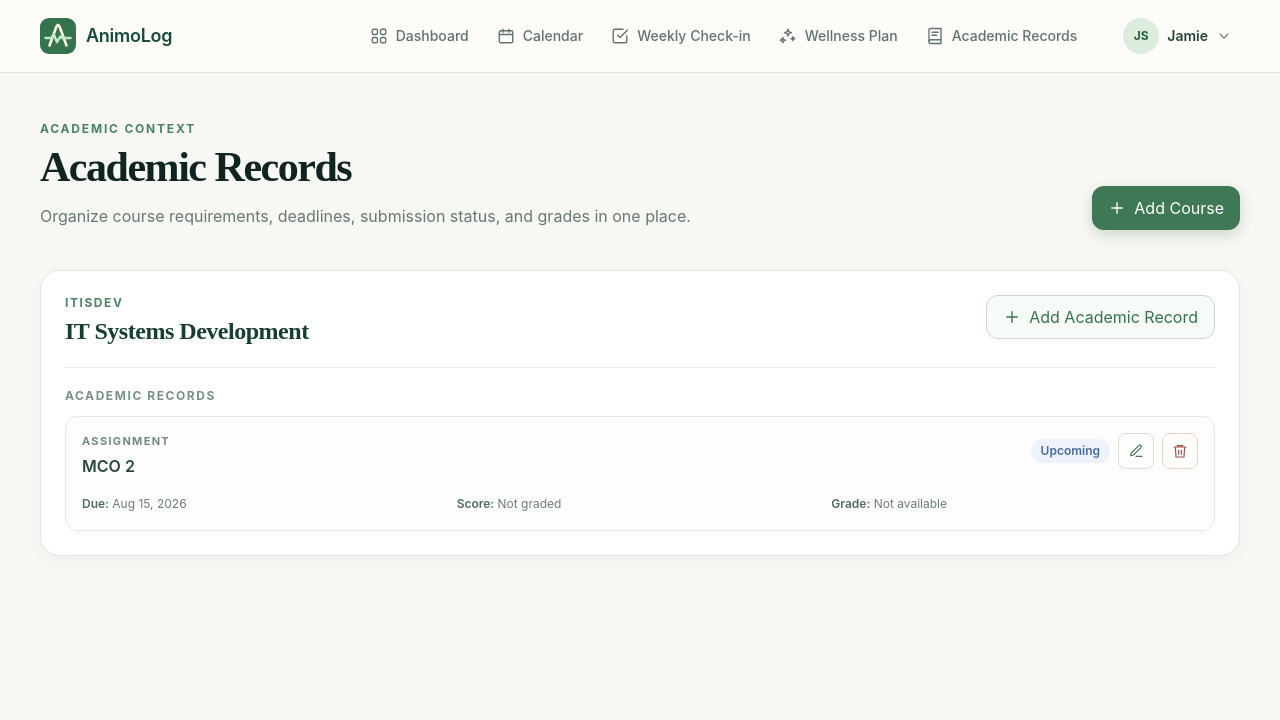
Scenario: Academic Records page › edits a manual record without changing its course
Click the button named "Edit MCO 2" at (1136, 451), box [1118, 433, 1154, 469]
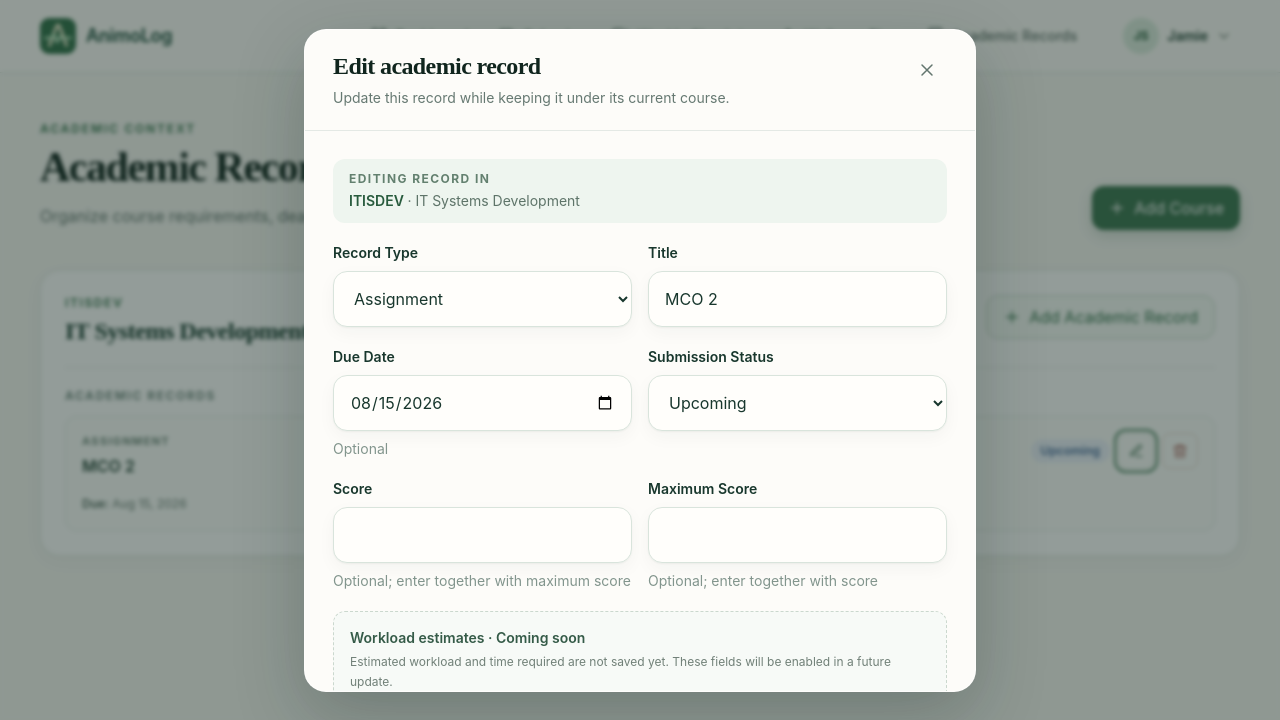
Now the heading "Edit academic record" is shown, box [333, 52, 540, 78]
Now the text "Editing record in" is shown, box [349, 170, 490, 186]
Now the date field labelled "Due Date" holds "2026-08-15", box [333, 374, 632, 430]
Replace the text in the field labelled "Title" with "Updated MCO 2" at (798, 298), box [648, 270, 947, 326]
(page scrolled)
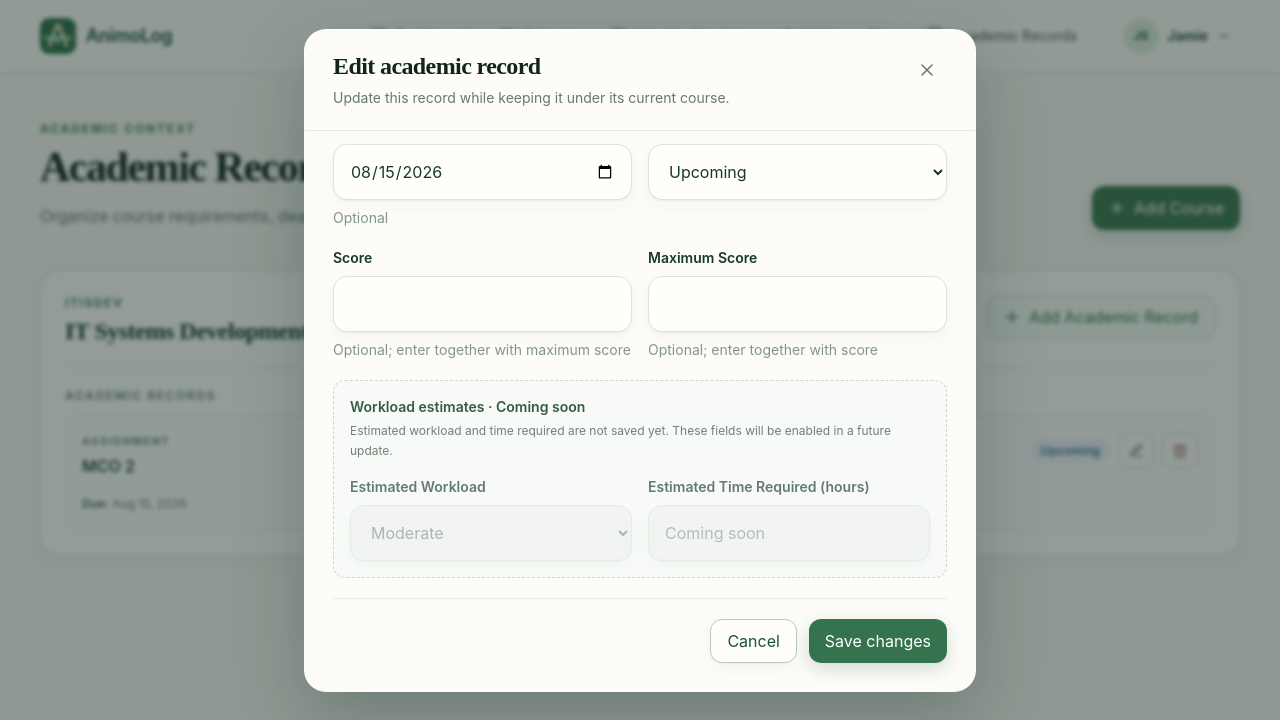
Click the button "Save changes" at (878, 640), box [809, 618, 947, 662]
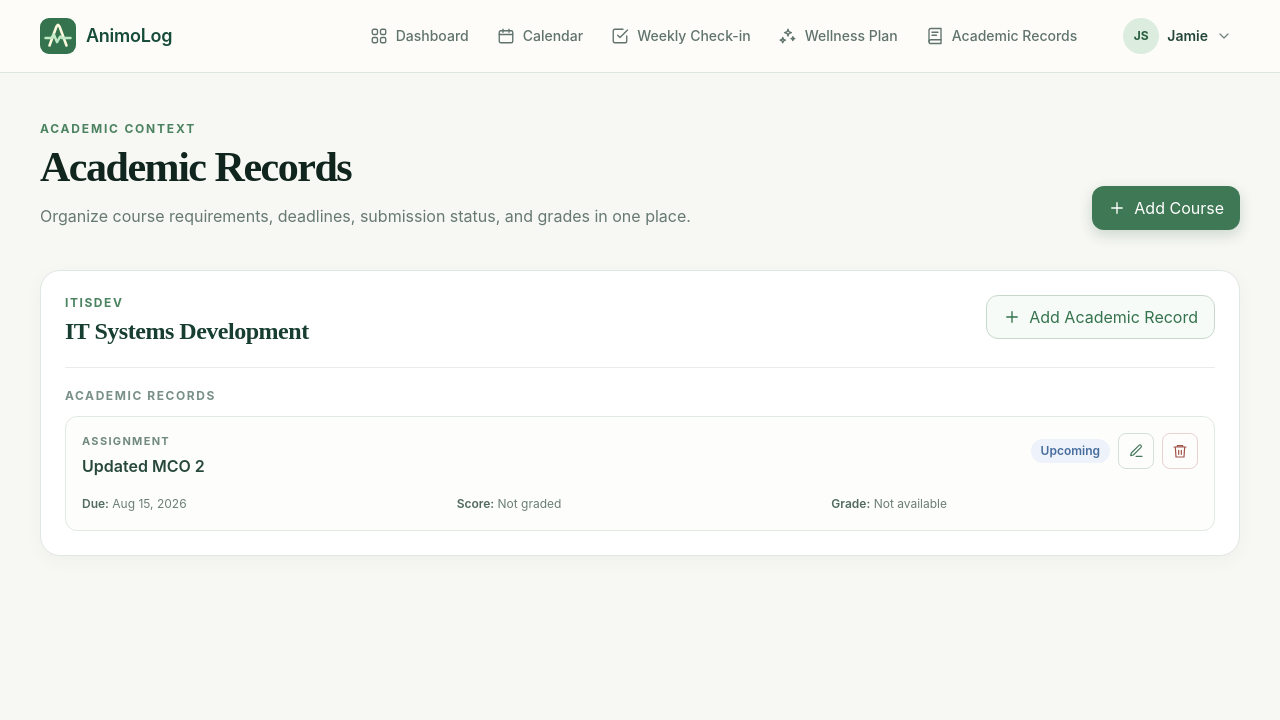
Now the heading "Updated MCO 2" is shown, box [82, 454, 205, 478]
Now the heading "Edit academic record" is gone
